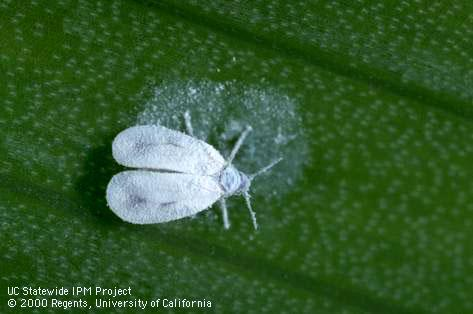whitefly: (106, 110, 283, 232)
